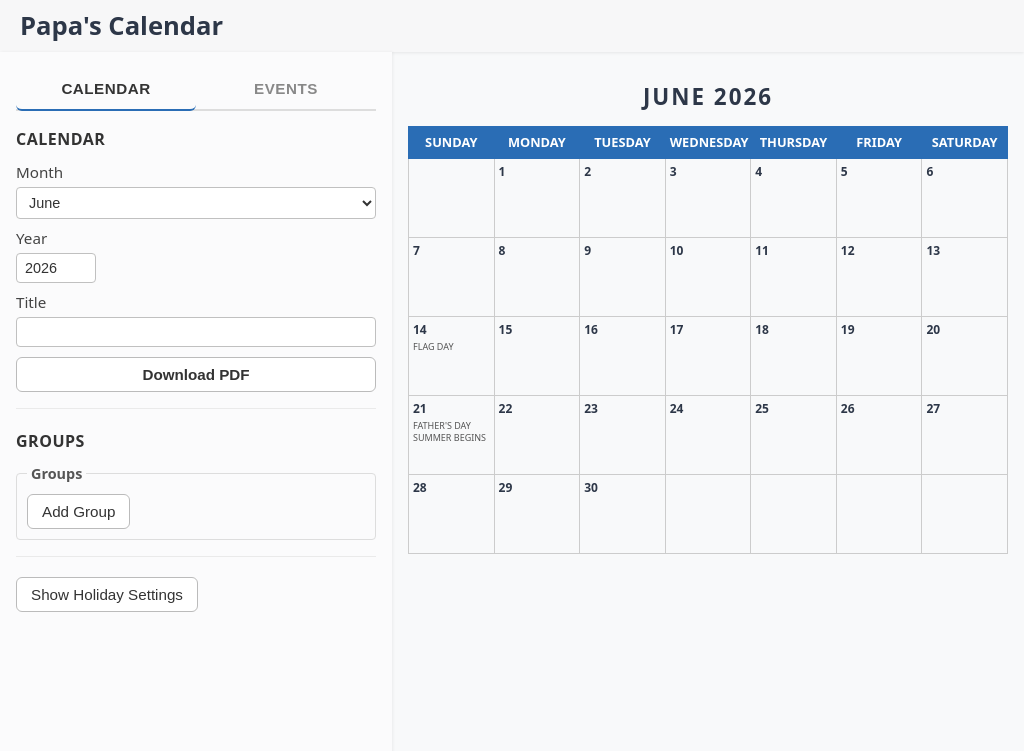
Test: adding an event shows it in the event list
# Switch to Events tab first
Click the button "Events" at [286, 90], box top-left (196, 68), bottom-right (376, 111)
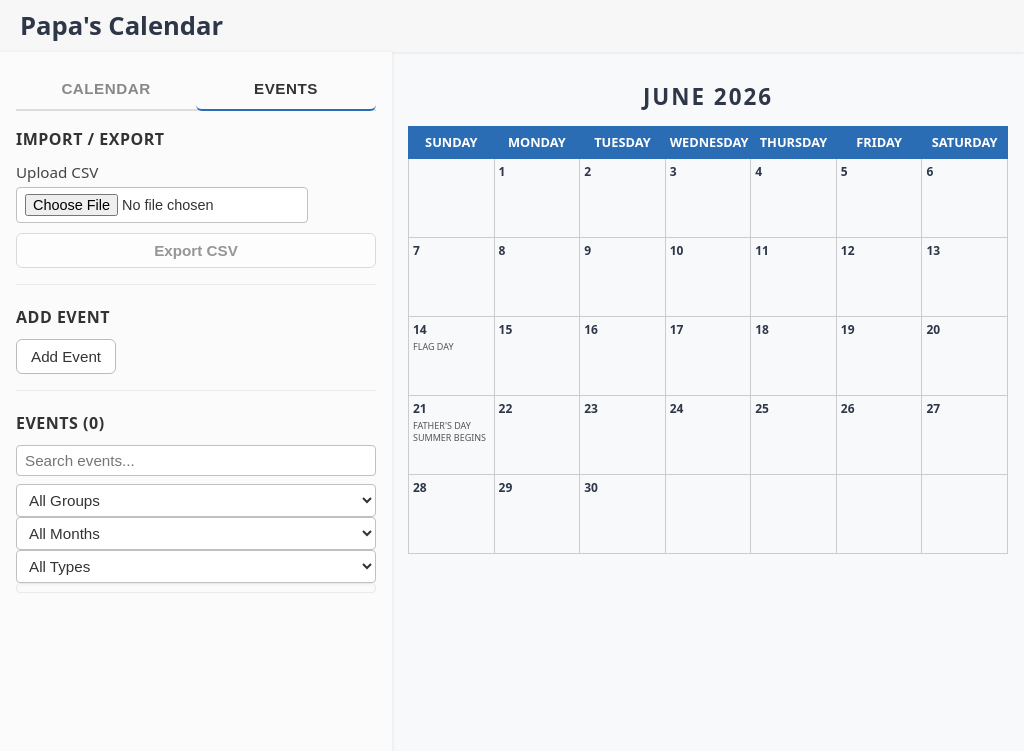
# Expand the event form, fill it in, and submit
Click the button "Add Event" at [66, 356], box top-left (16, 339), bottom-right (116, 374)
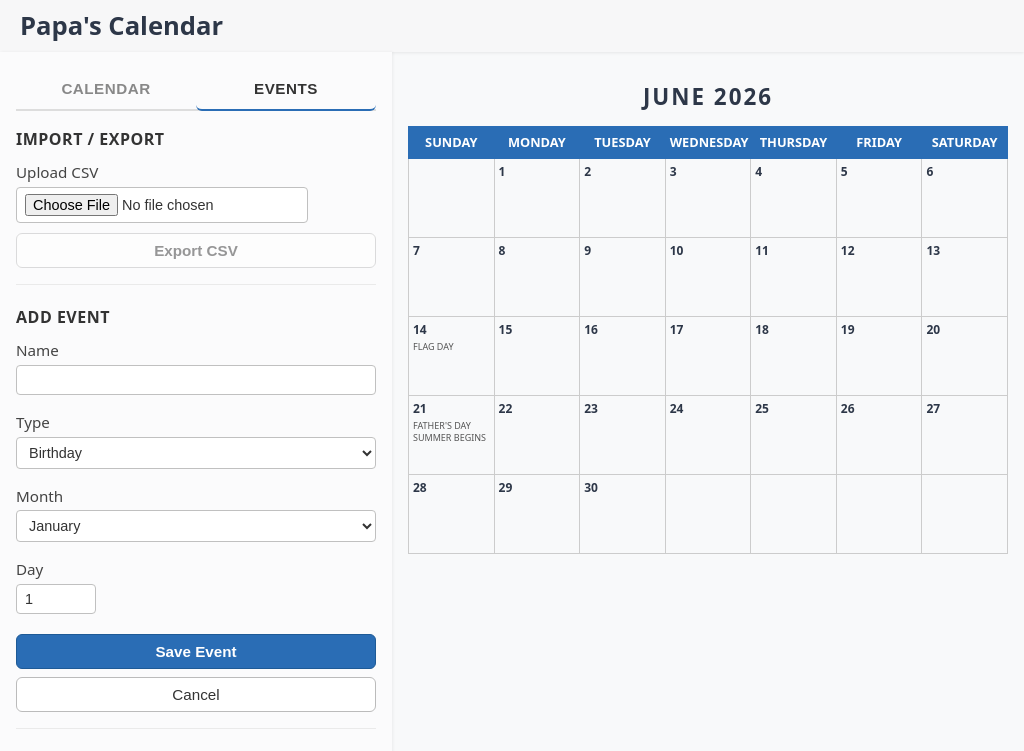
Type "Test Person" into the field labelled "Name" at [196, 380], box top-left (16, 365), bottom-right (376, 395)
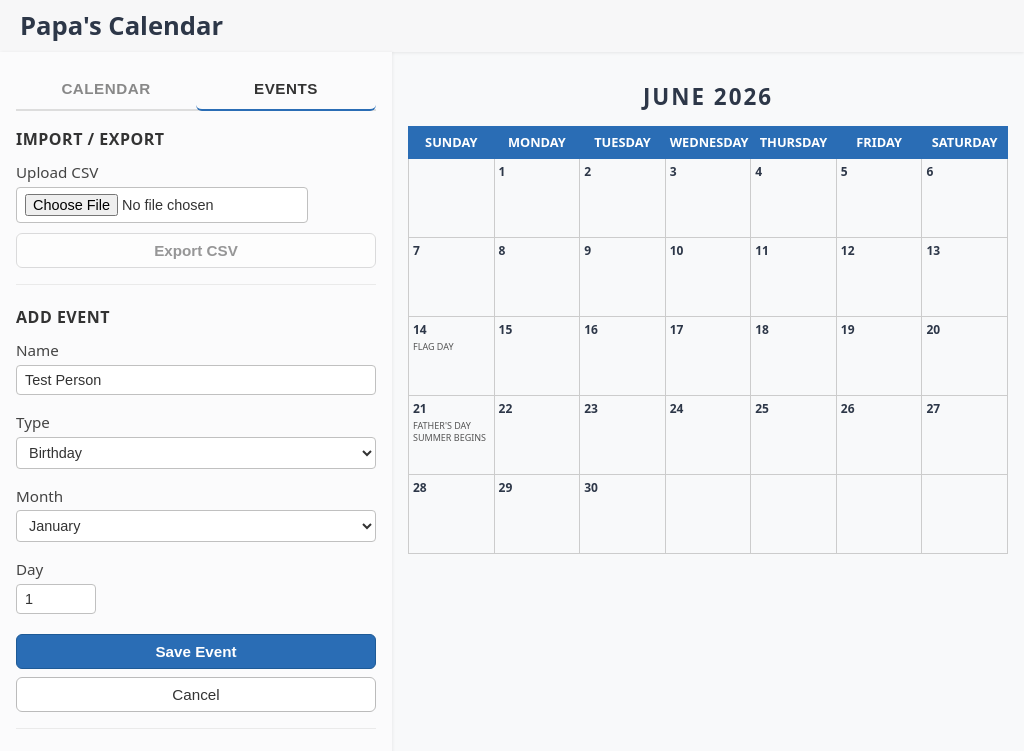
Click the button "Save Event" at [196, 652], box top-left (16, 634), bottom-right (376, 669)
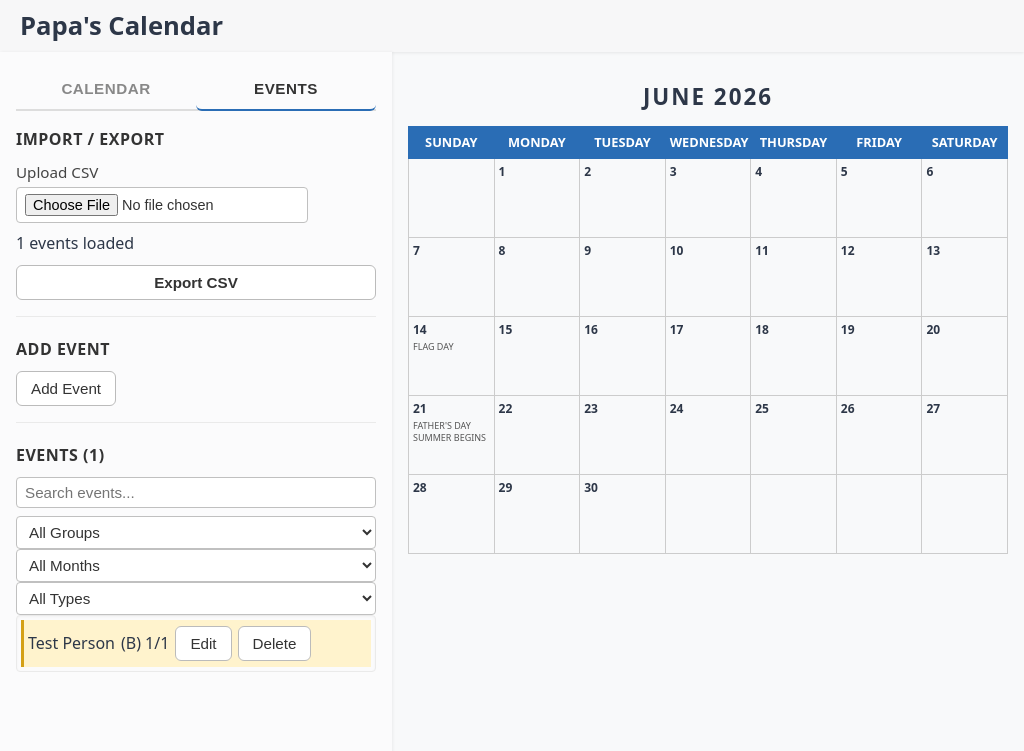
Now the text "Test Person" is shown, box top-left (28, 631), bottom-right (115, 655)
